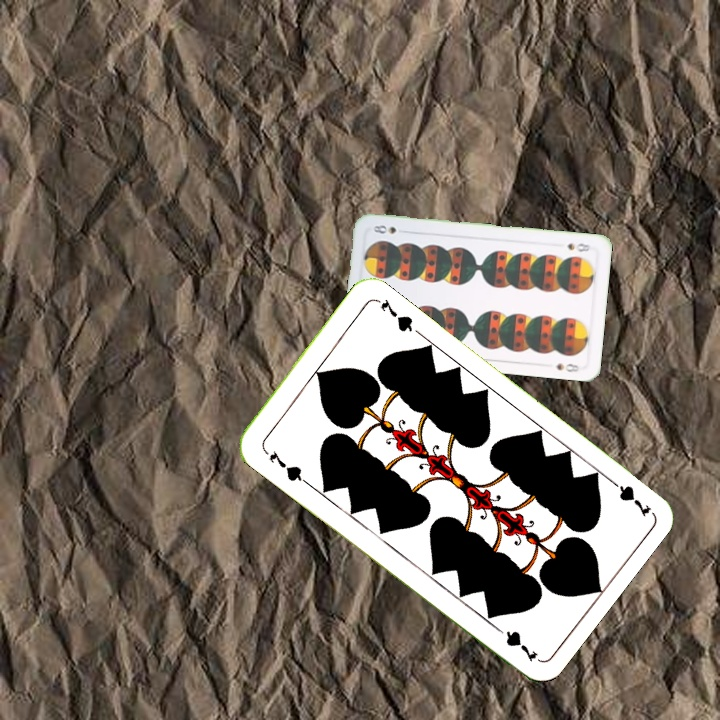G7: (602, 473, 654, 519), (265, 446, 309, 486)
S8: (563, 239, 593, 254)
